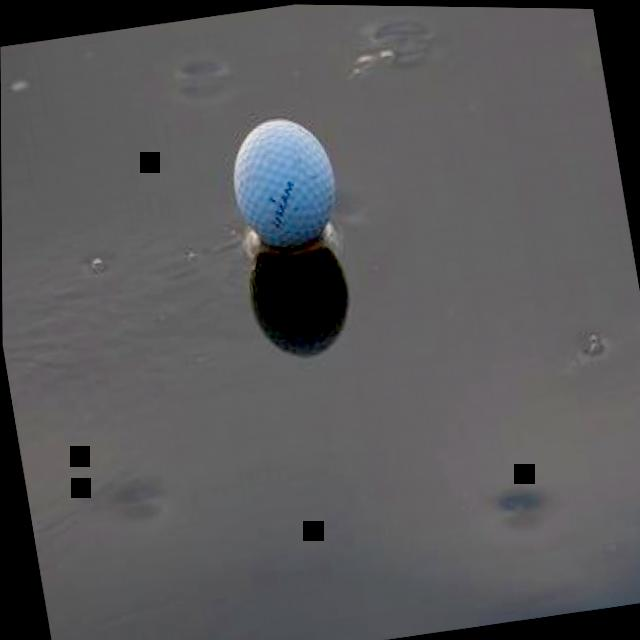golf ball: (217, 103, 348, 268)
